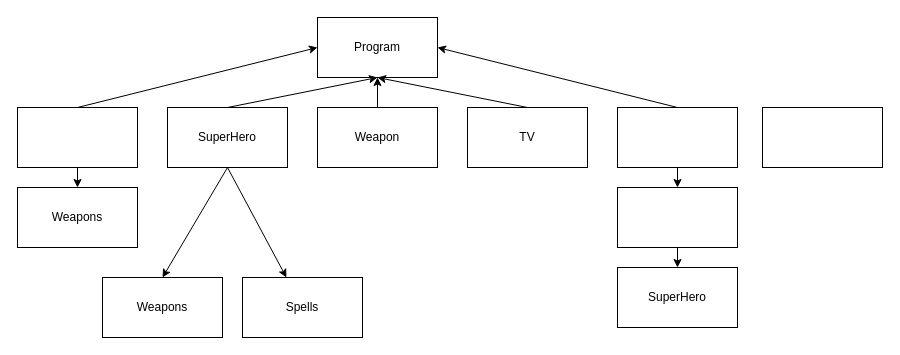
The diagram is 900 pixels wide and 355 high, and some of its shapes have lost their labels. Here are the shapes that lost their labels. From the top down, the box of each, then its label:
(16, 106, 138, 168): Monster
(616, 106, 738, 168): Encounter
(762, 106, 882, 168): Spell
(616, 186, 738, 248): Monsters
